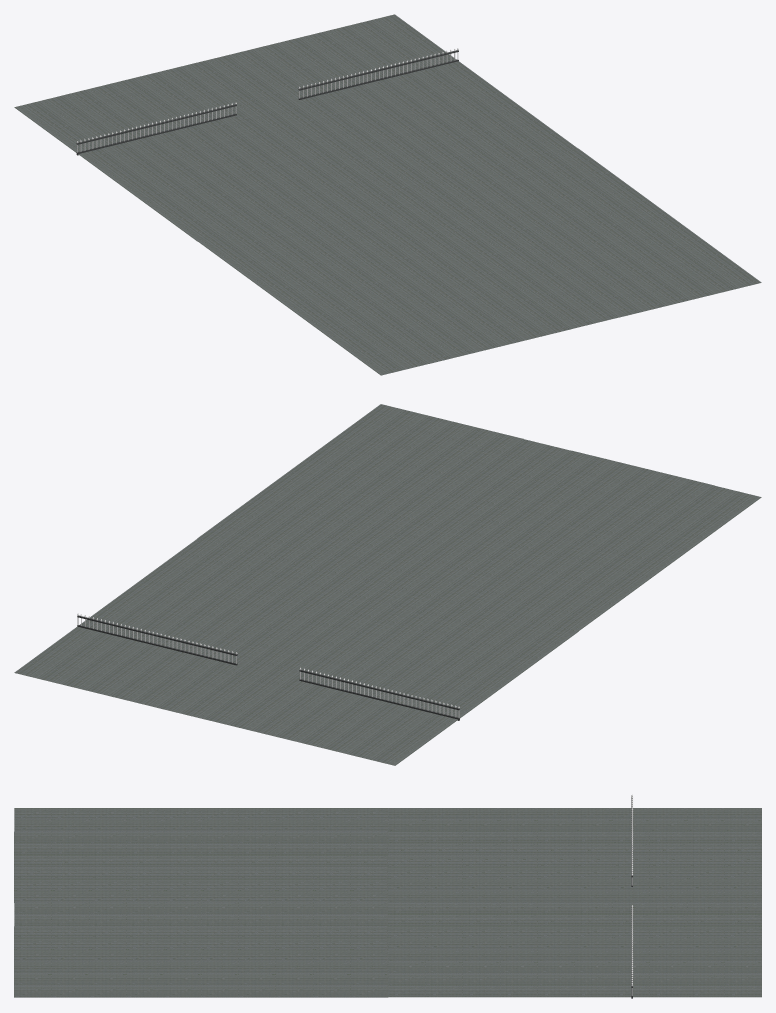
The model's file is env-2.fbx.
The picture shows the model from 3 angles, top to bottom: view 1: azimuth 30°, elevation 25°; view 2: azimuth 150°, elevation 25°; view 3: azimuth 270°, elevation 25°; orthographic projection.
Parts seen in each view (by area): view 1: floor, Cube.001; view 2: floor, Cube.001, Cylinder.001, Cylinder.009; view 3: floor.
Part boxes in pixels (x1,y1,x2,y2): floor: (14,14,761,375); Cube.001: (76,50,458,155); floor: (14,404,761,765); Cube.001: (77,615,459,720); Cylinder.001: (300,669,459,717); Cylinder.009: (77,615,236,663); floor: (14,808,761,997).
Size of the model in its own units: 4800 by 175 by 7985.
25 materials, 24 textured.
